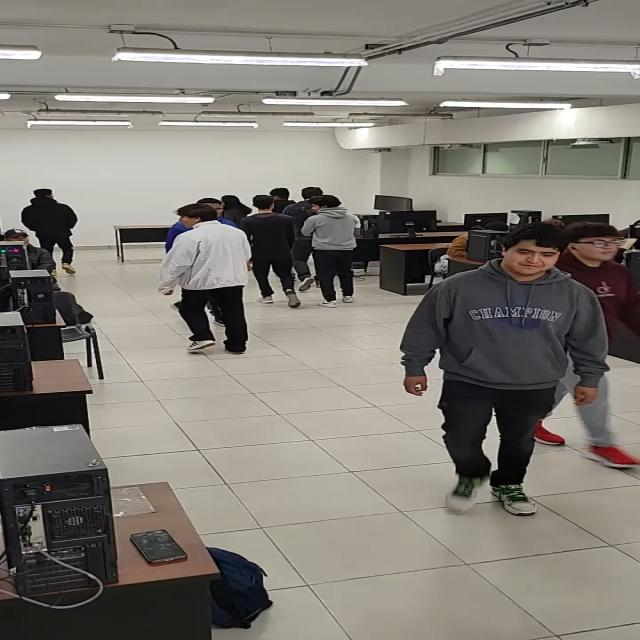Persona: (416, 223, 560, 514), (157, 205, 255, 348), (556, 220, 640, 361), (244, 196, 306, 305), (307, 198, 367, 304), (27, 188, 96, 271)
